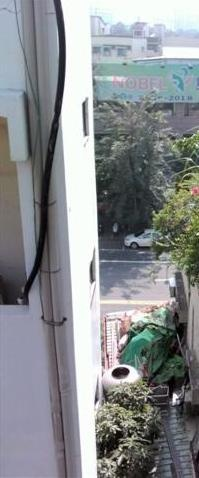water_tower: (101, 363, 141, 391)
